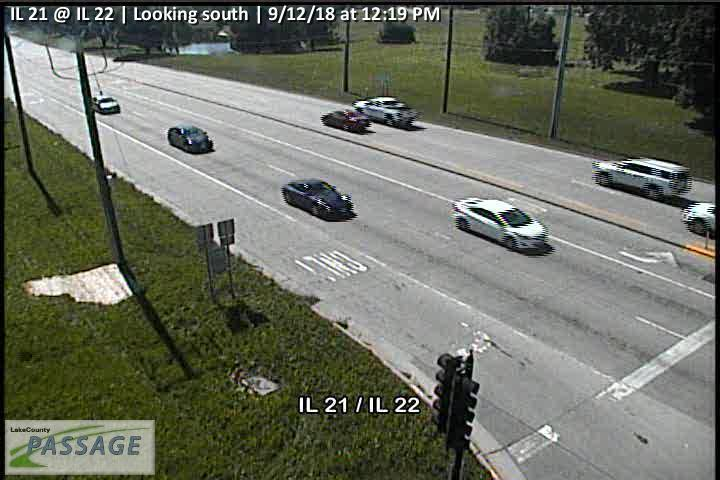SUV: (592, 155, 689, 201), (167, 124, 213, 156)
Sedan: (452, 196, 547, 251), (282, 177, 353, 219), (321, 109, 370, 132), (90, 94, 120, 114)
Truck: (356, 95, 423, 130)
